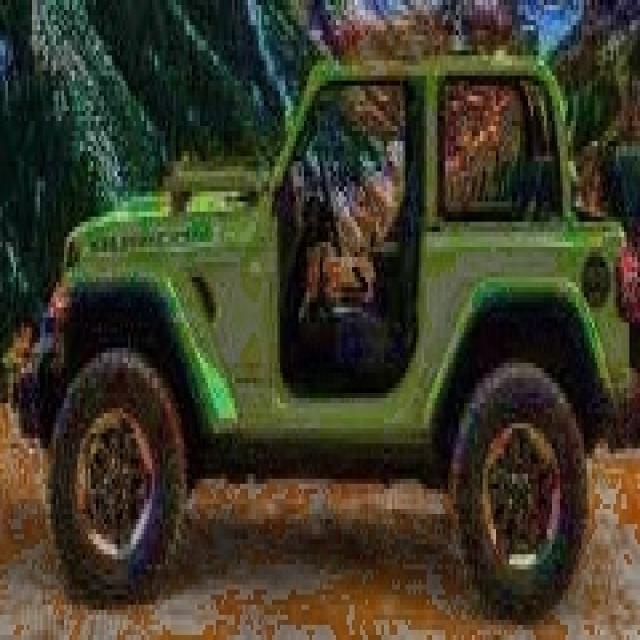green: (18, 55, 640, 619)
